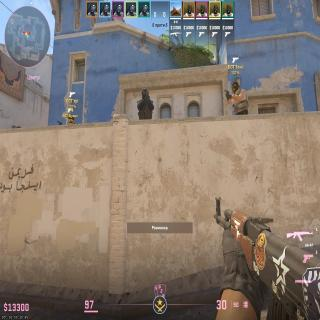CT-Body: (137, 87, 153, 120)
CT-Head: (142, 88, 149, 99)
T-Body: (230, 82, 248, 115)
T-Head: (232, 81, 239, 92), (68, 114, 74, 122)
